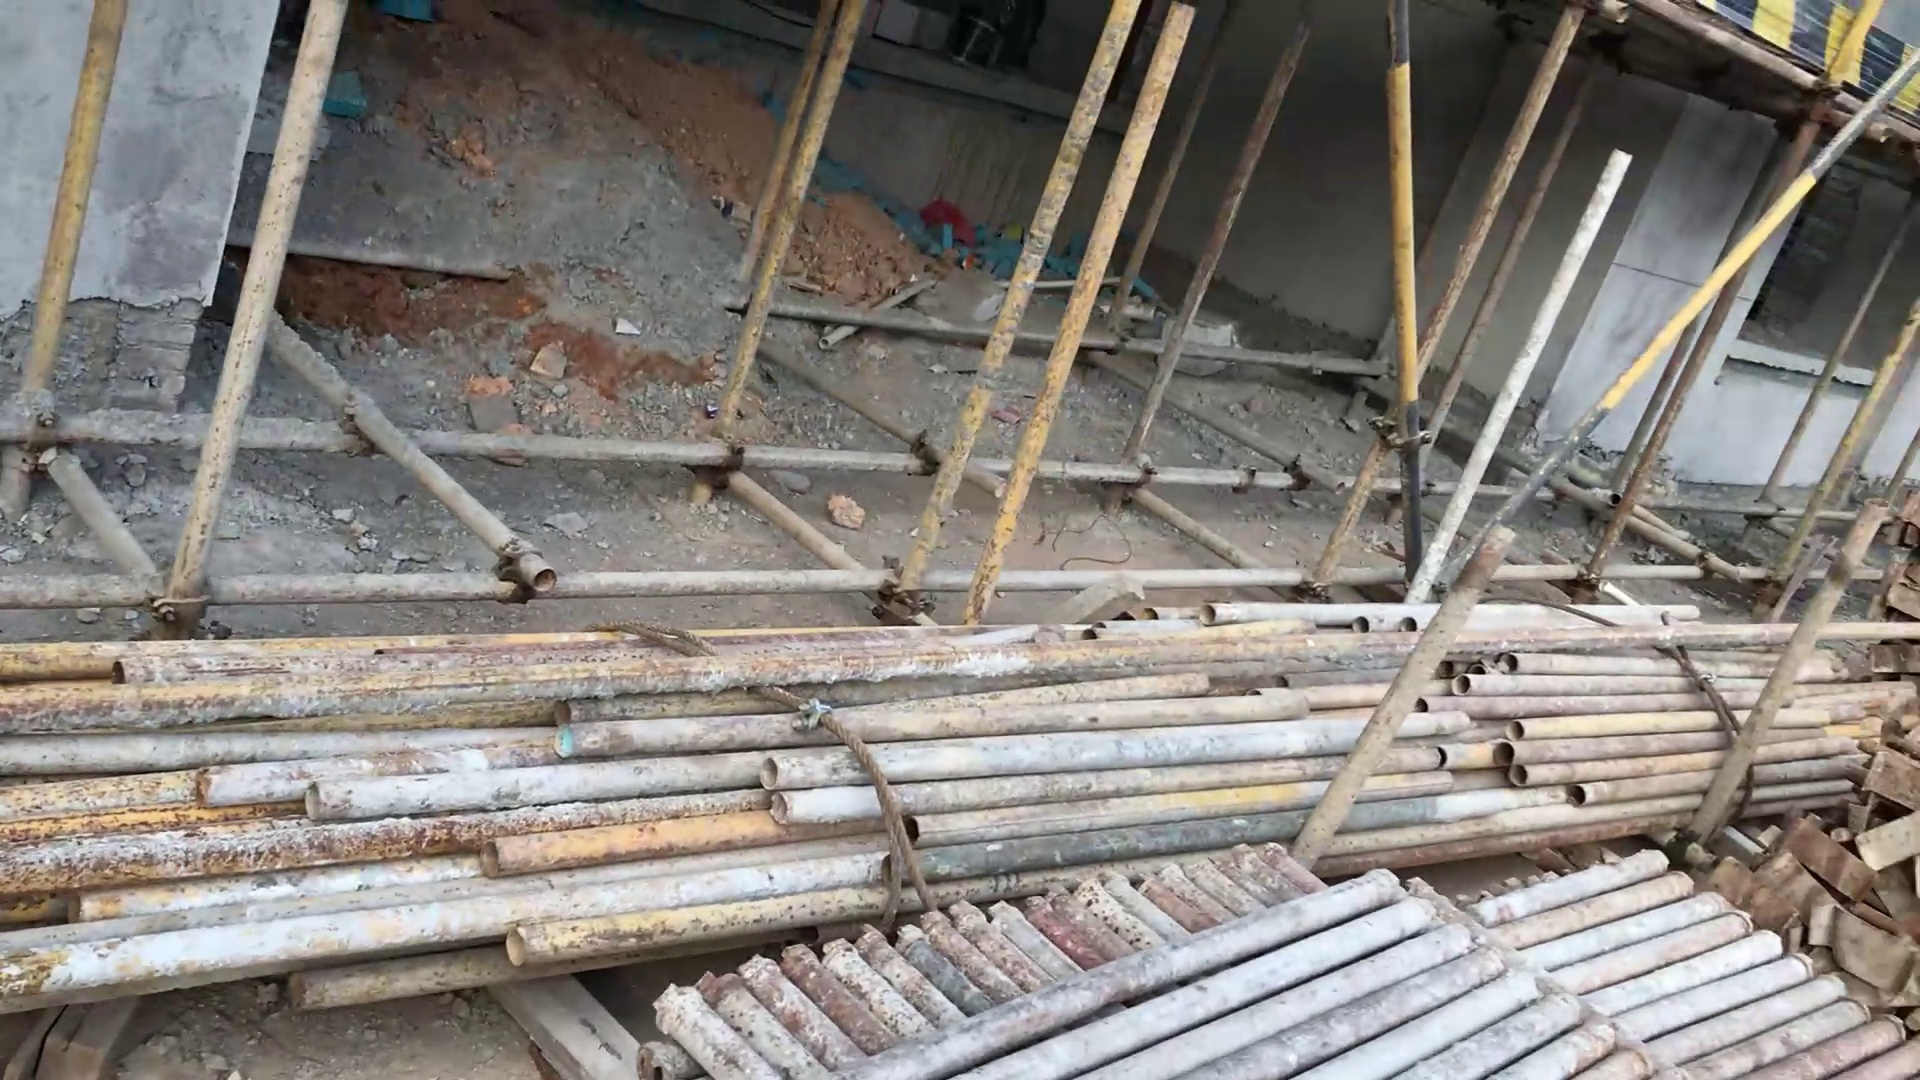scaffold: (657, 828, 1669, 1080)
